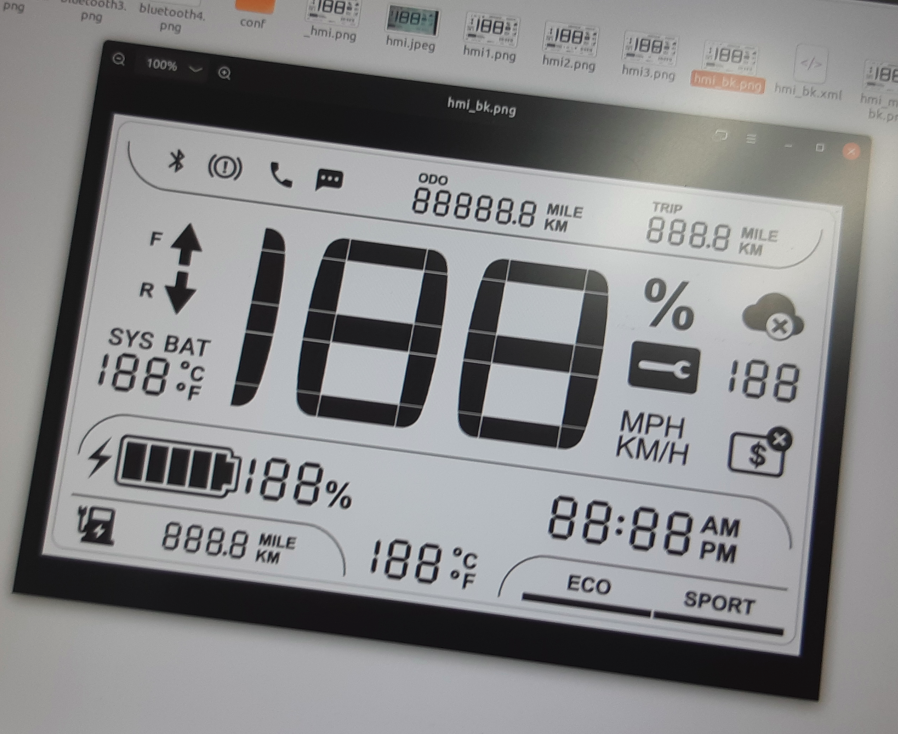bluetooth_on: (163, 146, 191, 175)
braking_on: (204, 150, 245, 184)
calling_on: (266, 156, 297, 191)
connection_lost: (737, 290, 807, 343)
error_code: (624, 336, 704, 398)
low_battery: (74, 501, 122, 549)
sms_on: (310, 164, 347, 196)
vin_id: (722, 422, 796, 481)
